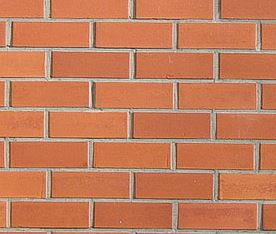brick: (49, 168, 131, 199), (8, 79, 92, 109), (132, 170, 216, 200), (91, 140, 172, 171), (174, 141, 257, 171), (176, 201, 259, 231), (177, 81, 255, 112), (49, 50, 131, 79), (9, 201, 91, 230), (92, 20, 173, 49), (176, 21, 257, 50), (8, 140, 88, 169), (134, 51, 216, 79), (93, 80, 172, 109), (48, 110, 127, 139), (10, 20, 90, 48), (131, 112, 211, 140), (94, 200, 172, 228), (217, 53, 276, 83), (217, 171, 276, 200), (214, 114, 276, 140), (49, 1, 130, 20), (133, 1, 216, 19), (1, 169, 49, 198), (1, 50, 47, 79), (1, 108, 48, 136), (219, 1, 276, 19), (1, 1, 46, 19), (258, 142, 276, 171), (260, 22, 276, 51), (261, 203, 275, 234), (259, 83, 276, 107)
